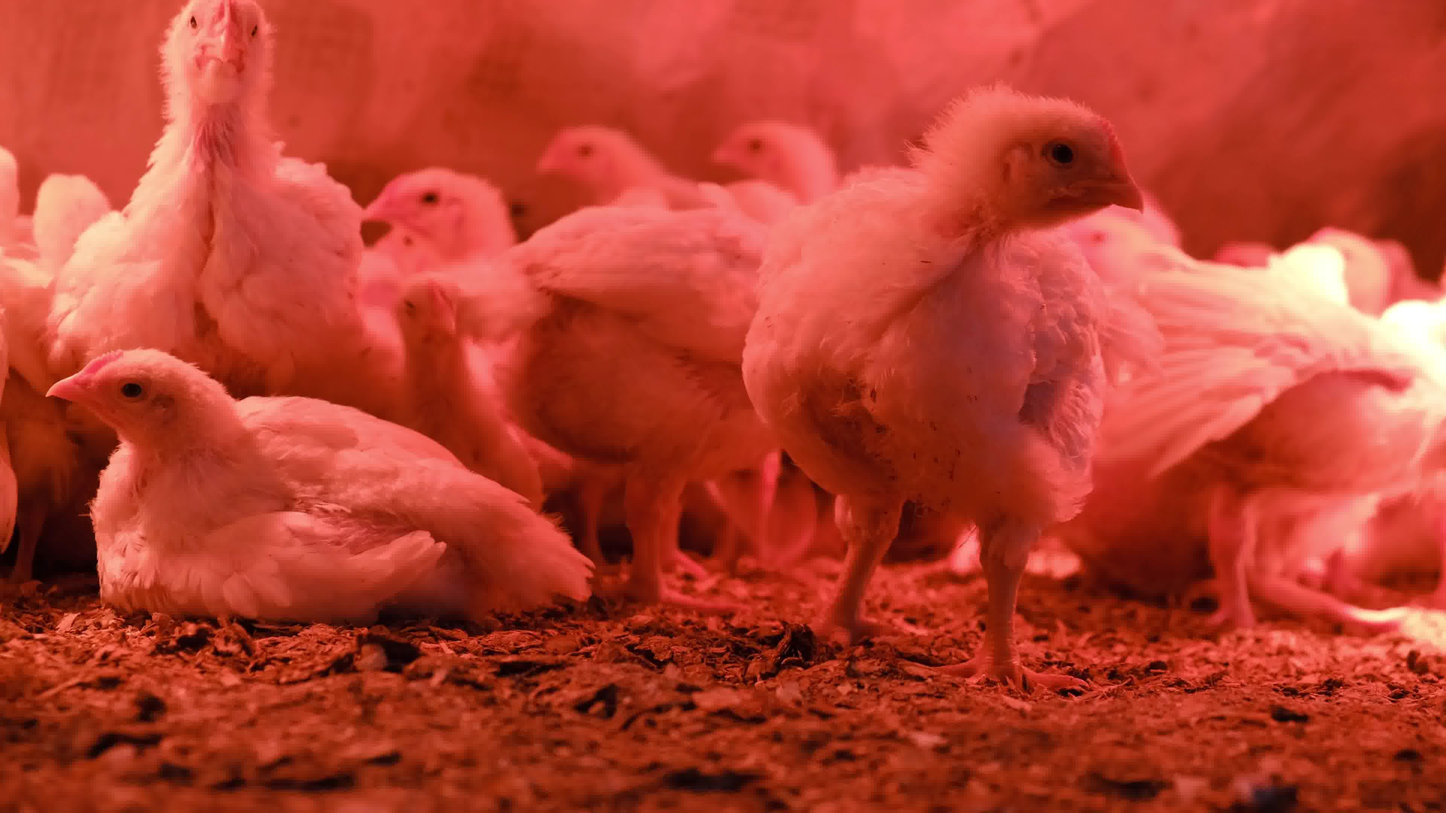AbNormal: (47, 345, 593, 623)
Normal: (745, 83, 1149, 682), (494, 125, 866, 604), (1096, 260, 1446, 631), (46, 0, 371, 368), (381, 283, 554, 526), (364, 170, 522, 276), (533, 126, 694, 200), (25, 166, 110, 295), (1064, 211, 1139, 276), (0, 142, 29, 256)
